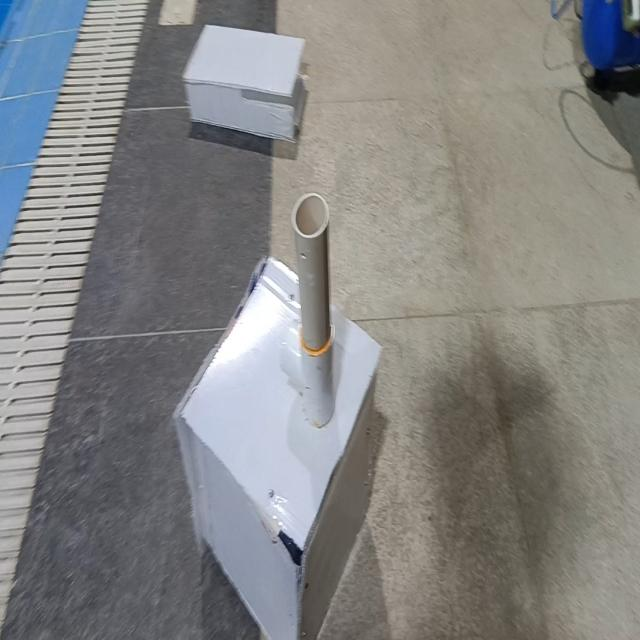Cube: (172, 253, 384, 638)
Cuboid: (181, 22, 307, 144)
